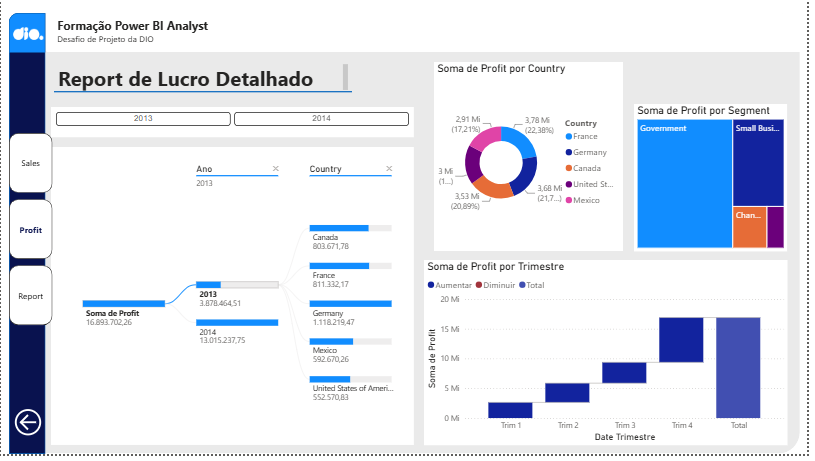

The page's visual inventory and layout, read from the dashboard file:
{"tool":"powerbi","page":{"name":"Profit","canvas":[1280,720],"ordinal":1},"visuals":[{"type":"shape","box":[42.6,20.7,1225.3,699.3],"z":0},{"type":"shape","box":[83.9,127.8,473,37.1],"z":0,"group":"g1"},{"type":"shape","box":[12.4,20.2,57.7,699.8],"z":1000},{"type":"textbox","box":[85.3,97.6,470.2,52.2],"z":1000,"group":"g1"},{"type":"shape","box":[12.4,20.6,57.7,63.2],"z":2000},{"type":"image","box":[13.7,33,57.7,39.9],"z":3000},{"type":"shape","title":"Fundo do Título","box":[71.5,20.6,1198.9,61.9],"z":4000},{"type":"textbox","title":"Título do report","box":[83.9,22,378.1,63.2],"z":5000},{"type":"shape","box":[79.7,233.7,576.1,473],"z":6000},{"type":"decompositionTreeVisual","fields":{"Analyze":["Sum(financials.Profit)"],"ExplainBy":["financials.Date.Variation.Hierarquia de datas.Ano","financials.Country"]},"box":[99.8,242.2,536.3,456.5],"z":7000},{"type":"waterfallChart","fields":{"Category":["financials.Date.Variation.Hierarquia de datas.Trimestre"],"Y":["Sum(financials.Profit)"]},"box":[670.9,412.5,577.4,294.2],"z":8000},{"type":"ChicletSlicer1448559807354","fields":{"Category":["financials.Date.Variation.Hierarquia de datas.Ano"]},"box":[79.7,170.5,576.1,48.1],"z":9000},{"type":"treemap","fields":{"Values":["Sum(financials.Profit)"],"Group":["financials.Segment"]},"box":[1005,165,243.4,233.7],"z":11000},{"type":"group","id":"g1","title":"Sales report","box":[83.9,97.6,473,67.4],"z":12000},{"type":"actionButton","box":[15.9,622.4,54,96.9],"z":13000},{"type":"donutChart","fields":{"Y":["Sum(financials.Profit)"],"Category":["financials.Country"]},"box":[687.3,98.4,300,300],"z":14001},{"type":"pageNavigator","box":[13.4,211.1,69.9,306.2],"z":14002}]}

Visuals, with their boxes on the page's 1280x720 design canvas (x1, y1, x2, y2). These are canvas units, not pixel positions in the 815x461 screenshot, which may show the page scaled, cropped or inside an application window:
shape: bbox=[43, 21, 1268, 720]
shape: bbox=[84, 128, 557, 165]
shape: bbox=[12, 20, 70, 720]
textbox: bbox=[85, 98, 556, 150]
shape: bbox=[12, 21, 70, 84]
image: bbox=[14, 33, 71, 73]
"Fundo do Título" shape: bbox=[72, 21, 1270, 82]
"Título do report" textbox: bbox=[84, 22, 462, 85]
shape: bbox=[80, 234, 656, 707]
decompositionTreeVisual - Sum(financials.Profit) x financials.Date.Variation.Hierarquia de datas.Ano: bbox=[100, 242, 636, 699]
waterfallChart - financials.Date.Variation.Hierarquia de datas.Trimestre x Sum(financials.Profit): bbox=[671, 412, 1248, 707]
ChicletSlicer1448559807354 - financials.Date.Variation.Hierarquia de datas.Ano: bbox=[80, 170, 656, 219]
treemap - Sum(financials.Profit) x financials.Segment: bbox=[1005, 165, 1248, 399]
"Sales report" group: bbox=[84, 98, 557, 165]
actionButton: bbox=[16, 622, 70, 719]
donutChart - Sum(financials.Profit) x financials.Country: bbox=[687, 98, 987, 398]
pageNavigator: bbox=[13, 211, 83, 517]
